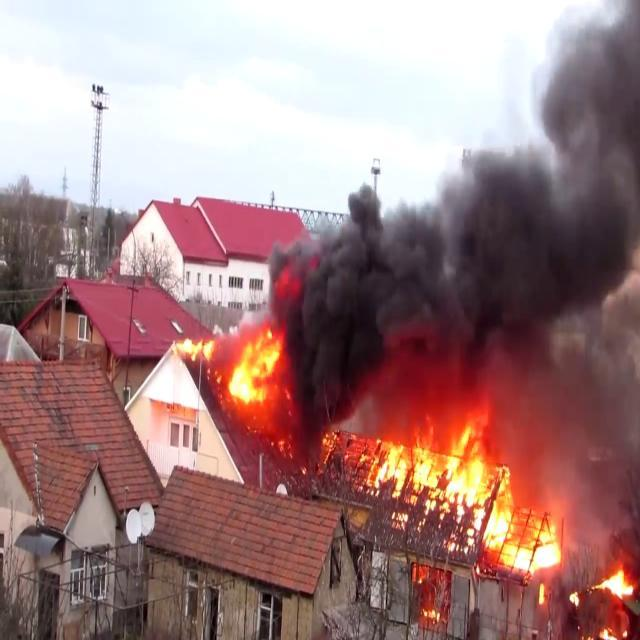Fire: (353, 407, 560, 572), (226, 320, 284, 408), (597, 557, 639, 612)
Smoke: (284, 2, 640, 456)
